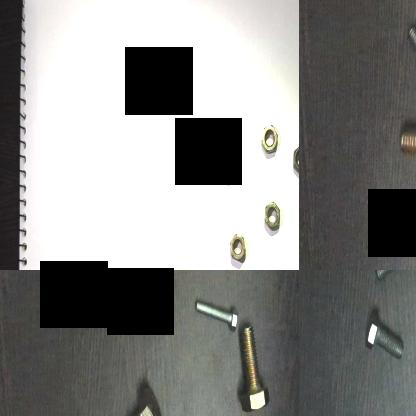Bolts: (236, 318, 270, 416), (125, 270, 180, 330), (358, 306, 407, 368), (99, 380, 169, 416), (192, 291, 242, 334), (392, 120, 416, 174), (402, 20, 416, 85), (369, 270, 413, 286)
NUTS: (259, 119, 279, 160), (260, 197, 280, 237), (226, 230, 247, 266), (216, 148, 236, 184), (290, 142, 299, 178)
